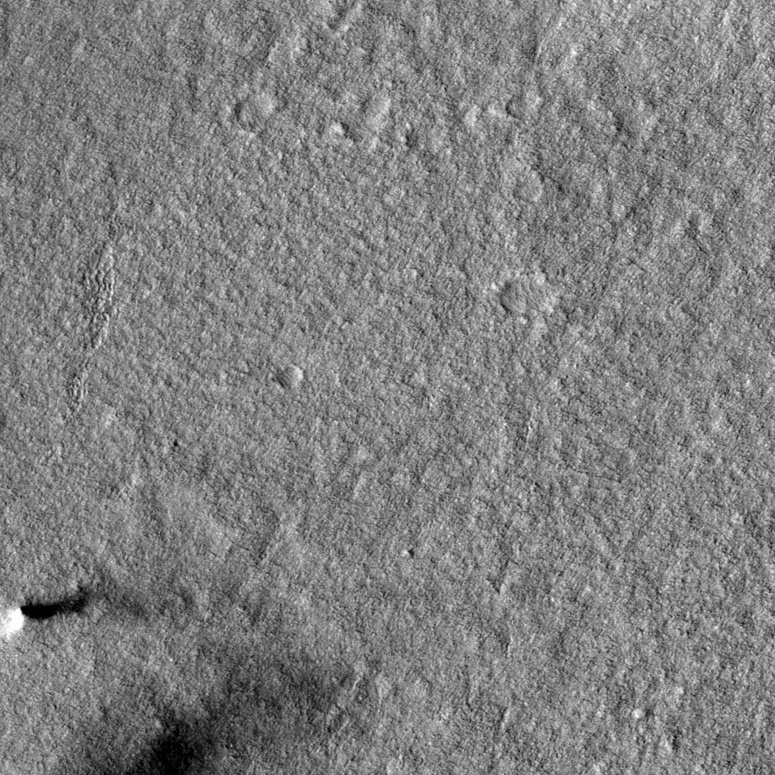dust_devil: (1, 586, 91, 639)
